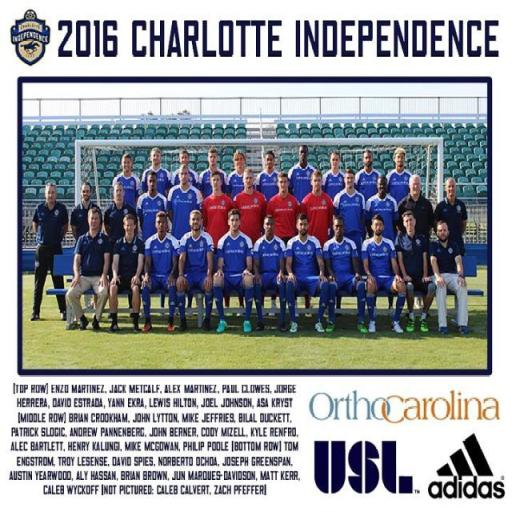Adidas: (428, 431, 506, 500)
